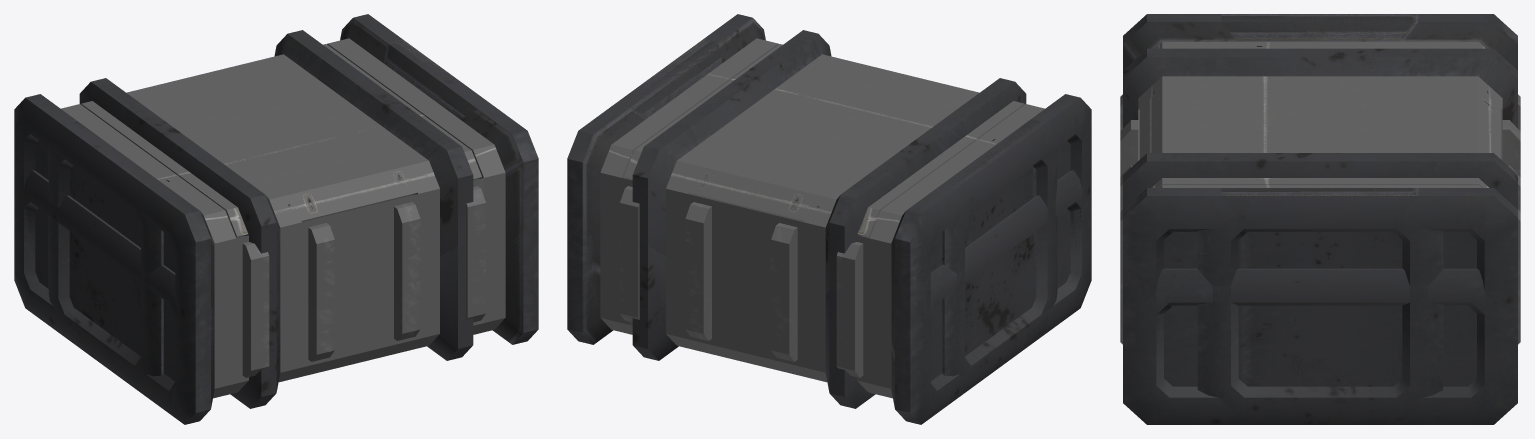
The model's file is cratesUV.fbx.
3 views of the same model, side by side, from view 1: azimuth 30°, elevation 25°; view 2: azimuth 150°, elevation 25°; view 3: azimuth 270°, elevation 25° (orthographic). The views are drawn at different scales.
Visible parts, largest first — view 1: Crate_02, Small_Crate_02, Crate_01, Crate_03, Small_Crate_03, Small_Crate_01; view 2: Crate_02, Small_Crate_02, Crate_01, Crate_03, Small_Crate_03, Small_Crate_01; view 3: Crate_02, Crate_01, Crate_03, Small_Crate_02, Small_Crate_01.
Boxes of the visible parts, x1,y1,x2,y2 form: Crate_02: (14, 14, 538, 424); Small_Crate_02: (79, 30, 473, 396); Crate_01: (48, 39, 477, 399); Crate_03: (14, 170, 538, 412); Small_Crate_03: (230, 244, 473, 408); Small_Crate_01: (125, 55, 426, 181); Crate_02: (567, 14, 1091, 424); Small_Crate_02: (632, 30, 1026, 394); Crate_01: (624, 39, 1057, 399); Crate_03: (567, 170, 1091, 411); Small_Crate_03: (632, 244, 875, 408); Small_Crate_01: (678, 55, 976, 181); Crate_02: (1120, 14, 1520, 424); Crate_01: (1197, 14, 1443, 424); Crate_03: (1120, 268, 1520, 401); Small_Crate_02: (1120, 48, 1520, 211); Small_Crate_01: (1221, 48, 1419, 177).
Bounding box in the file's own units: 23.2 × 13.2 × 20.92.
